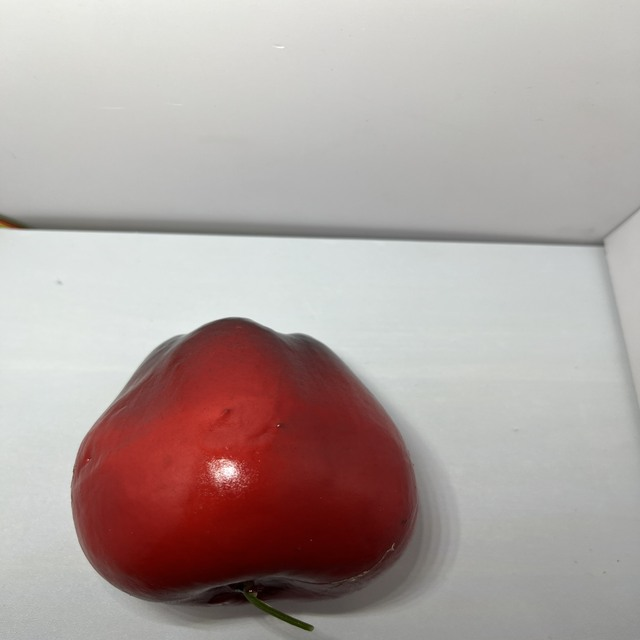Tao: (71, 314, 419, 616)
